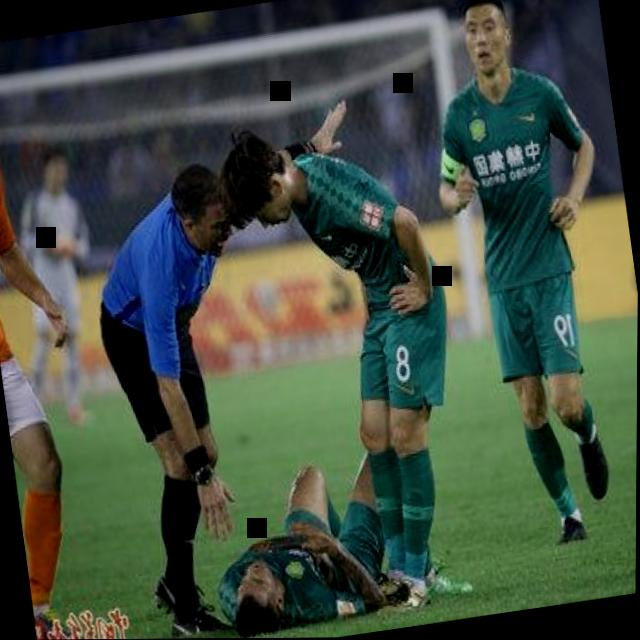Fall-Detected: (189, 428, 422, 639)
